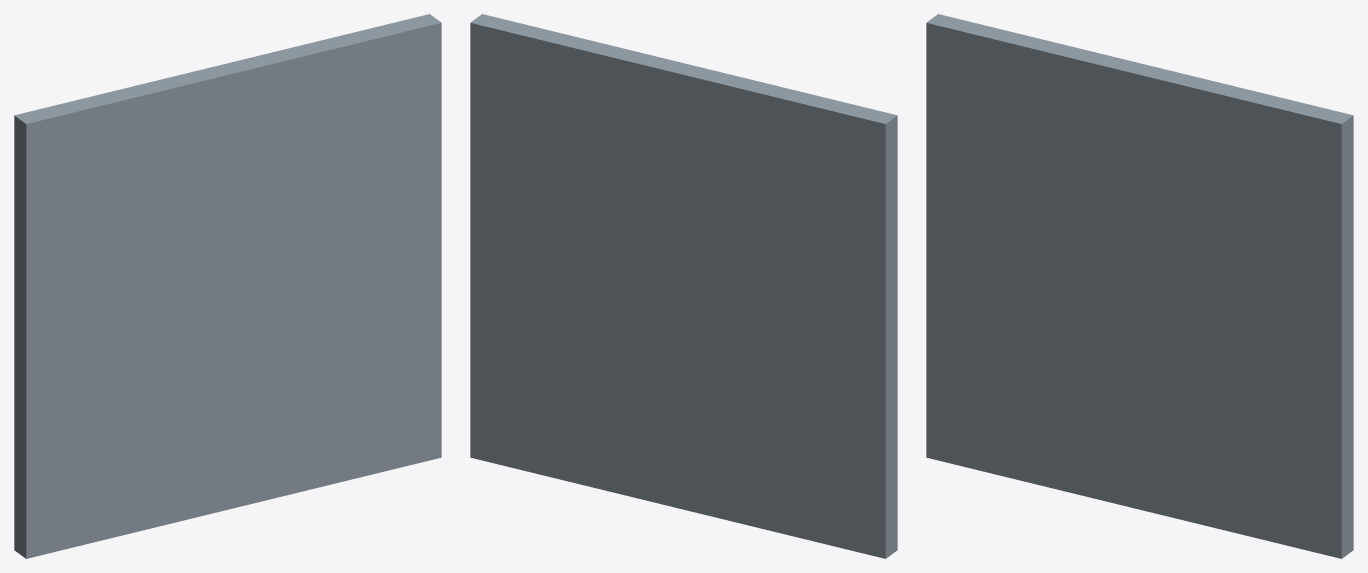
The model's file is Part Studio 1 - ARBox.dae.
3 views of the same model, side by side, from view 1: azimuth 30°, elevation 25°; view 2: azimuth 150°, elevation 25°; view 3: azimuth 330°, elevation 25° (orthographic).
Bounding box in the file's own units: 25400 × 25400 × 1270.
